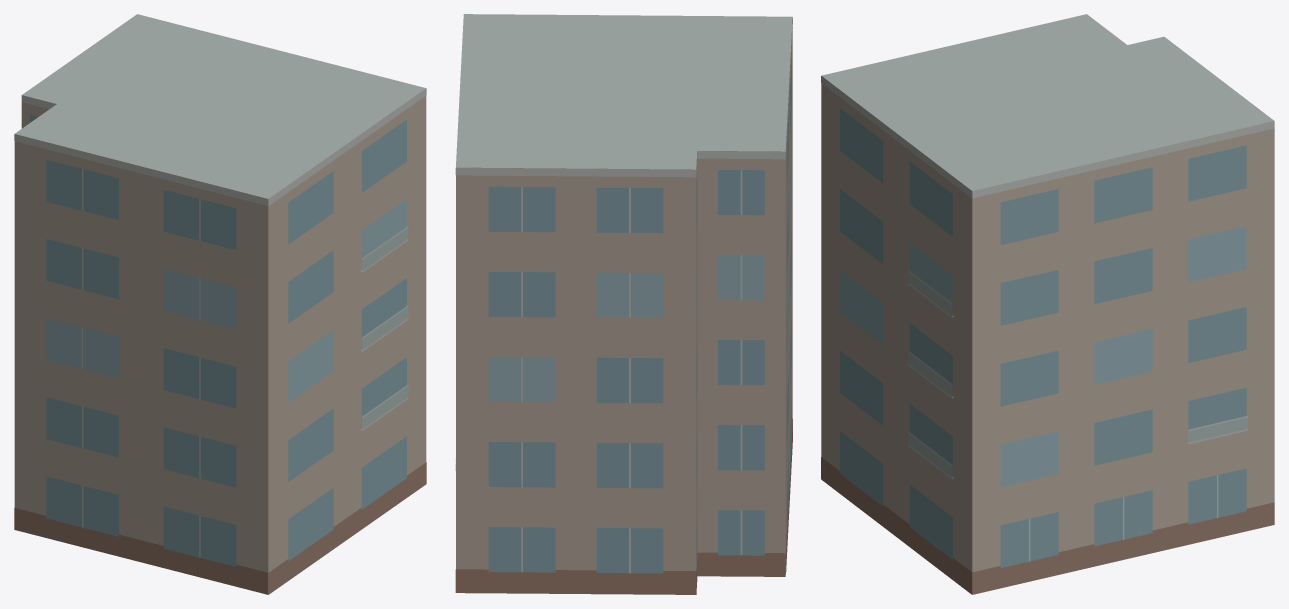
File: survey-upis-32711054.glb
3 views of the same model, side by side, from view 1: azimuth 30°, elevation 25°; view 2: azimuth 150°, elevation 25°; view 3: azimuth 270°, elevation 25° (orthographic). The views are drawn at different scales.
Parts seen in each view (by area): view 1: survey-upis-32711054.tmp; view 2: survey-upis-32711054.tmp; view 3: survey-upis-32711054.tmp.
Boxes of the visible parts, left/top/right/bottom form: survey-upis-32711054.tmp: left=14, top=14, right=426, bottom=594; survey-upis-32711054.tmp: left=455, top=14, right=792, bottom=594; survey-upis-32711054.tmp: left=821, top=14, right=1274, bottom=594.
Bounding box in the file's own units: 12.57 × 13.35 × 13.6.
